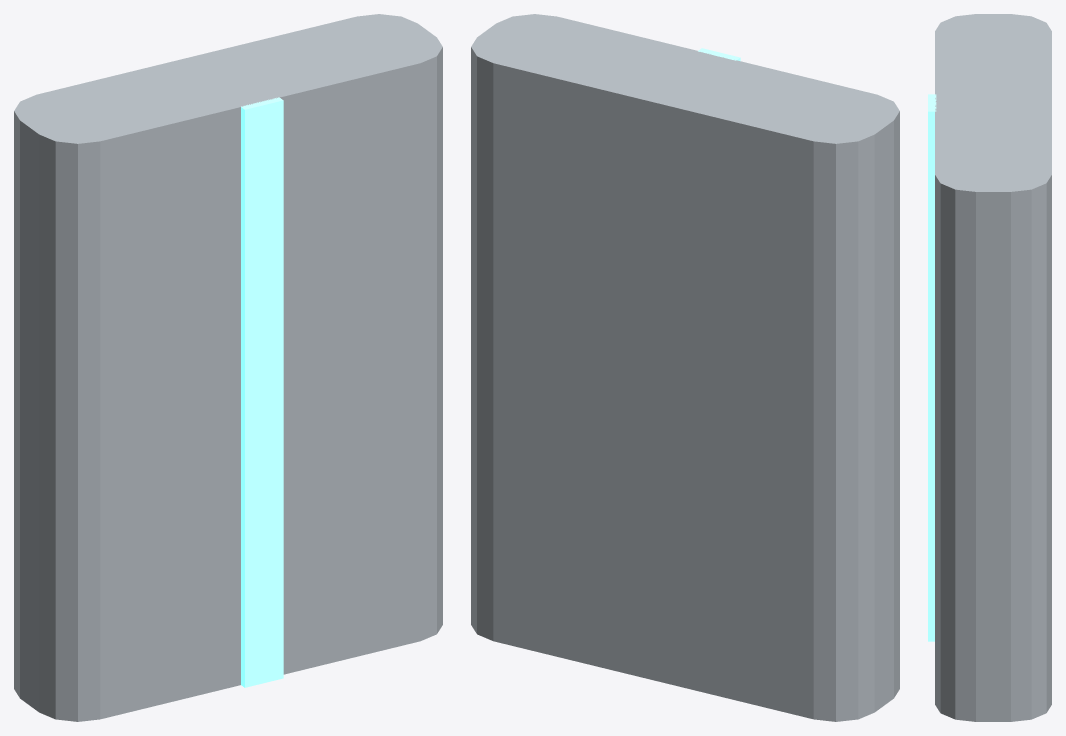
The model's file is Door_LeafTile.gltf.
3 renders of one model, left to right at view 1: azimuth 30°, elevation 25°; view 2: azimuth 150°, elevation 25°; view 3: azimuth 270°, elevation 25°, orthographic. The views are drawn at different scales.
Parts seen in each view (by area): view 1: Door_LeafTile_baked; view 2: Door_LeafTile_baked; view 3: Door_LeafTile_baked.
Part boxes in pixels (x1,y1,x2,y2): Door_LeafTile_baked: (14, 14, 442, 721); Door_LeafTile_baked: (471, 14, 899, 721); Door_LeafTile_baked: (928, 14, 1051, 721).
Bounding box in the file's own units: 0.72 × 1 × 0.212.
